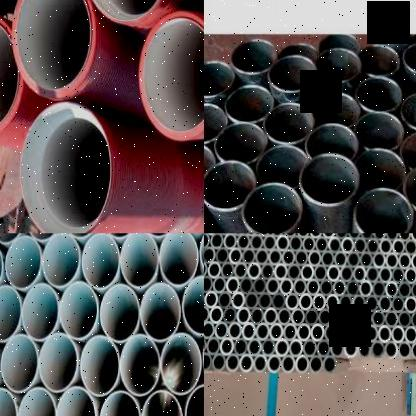pipe: (20, 102, 112, 233), (143, 16, 204, 132), (16, 0, 92, 90), (300, 153, 359, 204), (242, 183, 302, 233), (354, 187, 413, 233), (160, 332, 202, 395), (120, 334, 161, 396), (204, 161, 255, 210), (99, 283, 140, 342), (81, 335, 120, 397), (38, 333, 78, 393), (141, 282, 180, 342), (60, 281, 98, 340), (354, 148, 406, 191), (256, 145, 309, 187), (0, 16, 19, 133), (0, 334, 38, 392), (22, 283, 60, 341), (214, 123, 269, 163), (120, 233, 159, 288), (263, 103, 315, 144), (82, 233, 120, 289), (41, 233, 80, 287), (4, 235, 42, 290), (159, 233, 199, 285), (305, 122, 359, 160), (224, 85, 274, 123), (268, 54, 317, 92), (354, 113, 404, 150), (312, 92, 360, 127), (355, 77, 402, 112), (231, 39, 277, 74), (317, 48, 362, 83), (359, 44, 400, 76), (182, 275, 204, 334), (55, 385, 94, 416), (0, 286, 21, 342), (18, 386, 55, 416), (141, 389, 182, 416), (99, 391, 141, 416), (204, 61, 233, 97), (204, 103, 227, 142), (398, 131, 416, 168), (185, 384, 204, 416), (404, 164, 416, 213), (401, 92, 416, 131), (0, 387, 17, 416), (402, 42, 416, 75), (302, 338, 318, 358), (239, 353, 254, 373), (225, 353, 240, 373), (370, 340, 385, 360), (247, 338, 262, 358), (206, 336, 221, 356), (310, 322, 325, 342), (228, 321, 243, 341), (214, 320, 229, 340), (263, 306, 278, 326), (322, 354, 336, 375), (309, 354, 323, 375), (306, 278, 321, 297), (296, 354, 310, 374), (282, 354, 296, 374), (268, 354, 282, 374), (212, 352, 226, 372), (358, 340, 372, 360), (330, 339, 344, 359), (316, 339, 330, 359), (289, 338, 303, 358), (275, 338, 289, 358), (261, 338, 275, 358), (234, 338, 248, 358), (220, 337, 234, 357), (378, 324, 392, 344), (324, 323, 338, 343), (256, 322, 270, 342), (242, 322, 256, 342), (250, 306, 264, 326), (237, 306, 251, 326), (223, 306, 237, 326), (299, 292, 313, 312), (286, 292, 300, 312), (333, 278, 347, 298), (208, 260, 222, 280), (384, 341, 399, 359), (344, 340, 359, 358), (317, 308, 332, 326), (209, 306, 224, 324), (239, 276, 254, 294), (247, 262, 262, 280), (220, 261, 235, 279), (294, 249, 309, 267), (327, 236, 342, 254), (254, 354, 268, 373), (398, 341, 412, 360), (391, 325, 405, 344), (364, 324, 378, 343), (352, 324, 366, 343), (297, 323, 311, 342), (284, 323, 298, 342), (269, 322, 283, 341), (398, 310, 412, 329), (372, 309, 386, 328), (358, 309, 372, 328), (345, 308, 359, 327), (277, 307, 291, 326), (272, 292, 286, 311), (232, 291, 246, 310), (218, 291, 232, 310), (293, 278, 307, 297), (212, 275, 226, 294), (340, 264, 354, 283), (308, 249, 322, 268), (289, 235, 304, 252), (275, 235, 290, 252), (338, 324, 352, 342), (385, 310, 399, 328), (332, 308, 346, 326), (304, 308, 318, 326), (291, 308, 305, 326), (378, 295, 392, 313), (365, 294, 379, 312), (352, 294, 366, 312), (339, 294, 353, 312), (326, 294, 340, 312), (312, 294, 326, 312), (258, 292, 272, 310), (244, 292, 258, 310), (204, 291, 218, 309), (398, 282, 412, 300), (372, 280, 386, 298), (346, 280, 360, 298), (320, 279, 334, 297), (280, 278, 294, 296), (266, 278, 280, 296), (252, 276, 266, 294), (226, 276, 240, 294), (287, 263, 301, 281), (274, 262, 288, 280), (260, 262, 274, 280), (234, 262, 248, 280), (398, 252, 412, 270), (372, 252, 386, 270), (360, 251, 374, 269), (282, 248, 296, 266), (268, 248, 282, 266), (229, 247, 243, 265), (215, 246, 229, 264), (300, 264, 314, 281), (334, 251, 348, 268), (255, 249, 269, 266), (366, 238, 380, 255), (341, 237, 355, 254), (302, 236, 316, 253), (262, 234, 276, 251), (250, 234, 264, 251), (392, 296, 405, 314), (392, 266, 405, 284), (379, 266, 392, 284), (366, 266, 379, 284), (327, 264, 340, 282), (314, 264, 327, 282), (386, 252, 399, 270), (321, 250, 334, 268), (379, 238, 392, 256), (354, 237, 367, 255), (404, 325, 416, 344), (404, 238, 416, 257), (242, 248, 256, 264), (236, 234, 250, 250), (223, 233, 236, 250), (210, 233, 223, 250), (404, 295, 416, 313), (386, 281, 398, 299), (360, 280, 372, 298), (404, 266, 416, 284), (348, 250, 360, 268), (393, 238, 405, 256), (316, 236, 328, 254), (353, 266, 366, 282), (204, 246, 215, 264), (204, 320, 214, 339), (204, 274, 213, 294), (204, 352, 212, 372), (204, 304, 210, 324), (372, 234, 386, 242), (398, 234, 411, 242), (204, 233, 210, 250), (360, 233, 374, 240), (386, 234, 398, 242), (411, 310, 416, 329), (411, 342, 416, 360), (411, 281, 416, 299), (411, 252, 416, 270), (348, 233, 360, 240), (336, 234, 348, 240), (321, 233, 335, 238), (296, 233, 310, 238), (283, 233, 297, 238), (309, 233, 322, 238), (270, 234, 284, 238), (204, 260, 207, 278), (411, 234, 416, 242)
